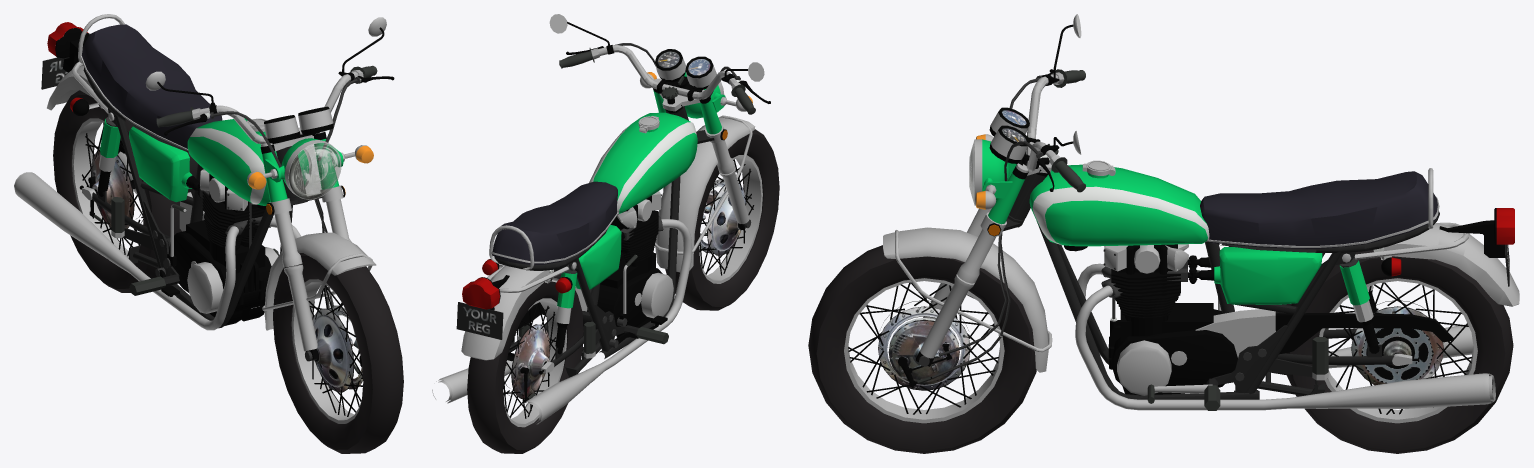
The model's file is motorbike.glb.
3 renders of one model, left to right at view 1: azimuth 30°, elevation 25°; view 2: azimuth 150°, elevation 25°; view 3: azimuth 270°, elevation 25°, orthographic. The views are drawn at different scales.
Visible parts, largest first — view 1: node_16, node_20, node_17, node_24, node_4, node_13, node_9, node_10; view 2: node_16, node_20, node_17, node_13, node_24, node_9; view 3: node_16, node_20, node_17, node_11, node_12, node_24, node_14.
Boxes of the visible parts, x1,y1,x2,y2 form: node_16: (14,14,403,453); node_20: (55,27,394,416); node_17: (83,67,322,328); node_24: (312,305,362,392); node_4: (288,142,341,199); node_13: (91,149,134,228); node_9: (41,57,69,89); node_10: (248,146,373,189); node_16: (432,14,779,453); node_20: (470,21,770,418); node_17: (494,106,714,377); node_13: (511,324,549,398); node_24: (699,178,745,255); node_9: (456,302,503,339); node_16: (808,14,1519,453); node_20: (848,24,1505,414); node_17: (1003,173,1439,399); node_11: (888,319,959,384); node_12: (1361,328,1433,383); node_24: (878,300,970,390); node_14: (1351,306,1443,385).
Size of the model in its own units: 3.87 by 5.38 by 9.2.
13 materials, 13 textured.
